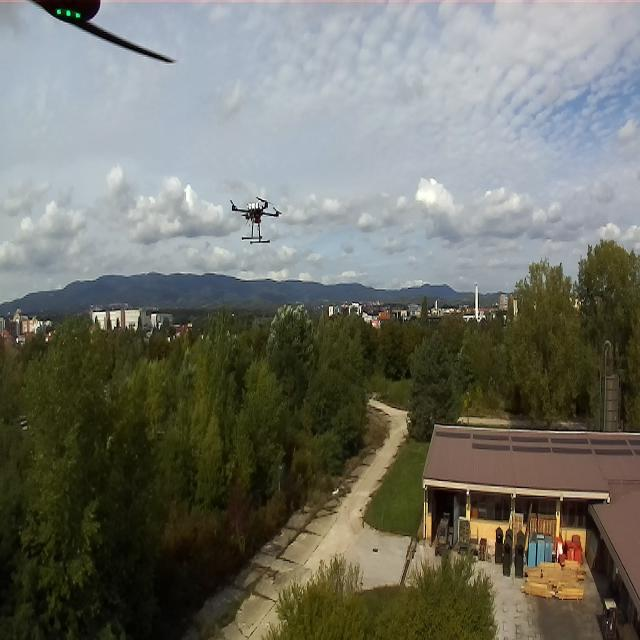UAV: (223, 188, 288, 254)
